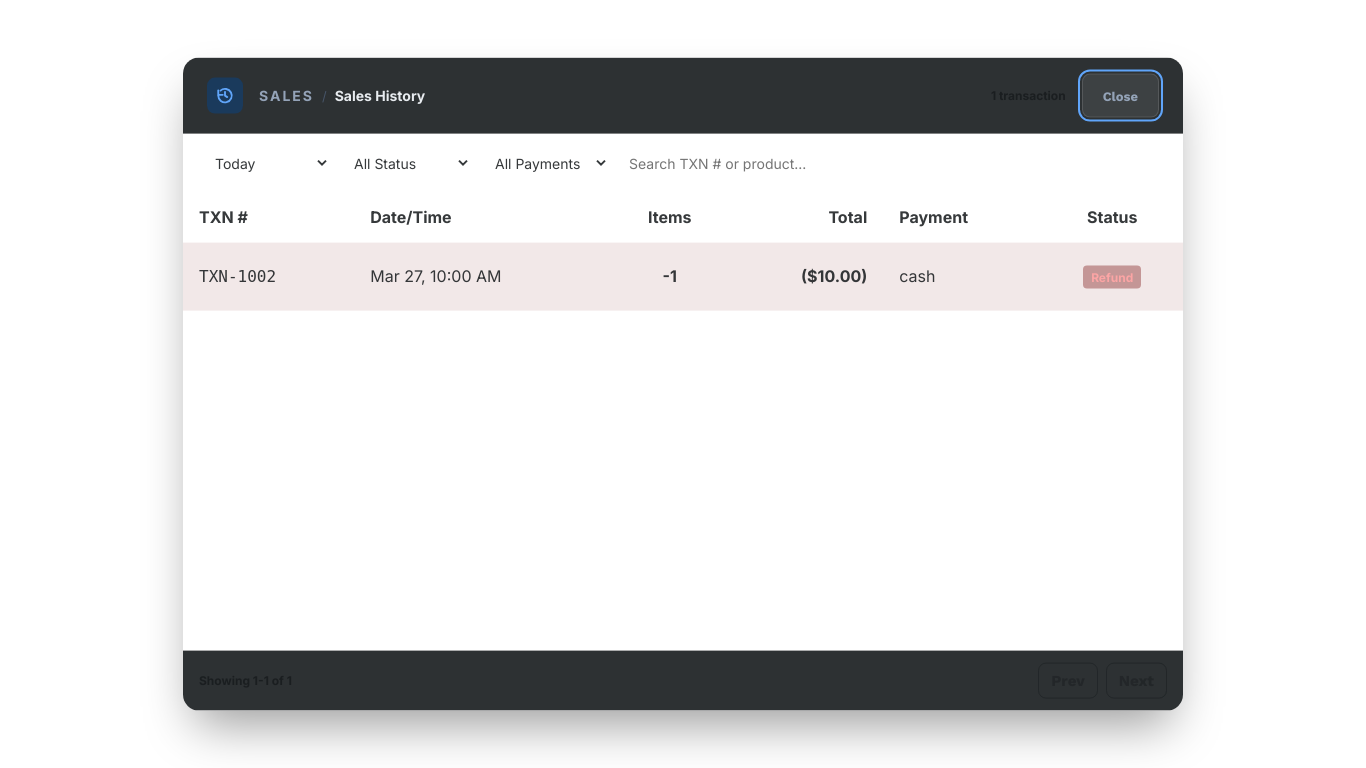
SalesHistoryModal › renders refund rows and hides recall action for refunds
Expected: the text "Refund" is shown, [1083,265,1141,289]
Click the row with test id "sales-history-row-2": (683, 276) [183,242,1183,310]
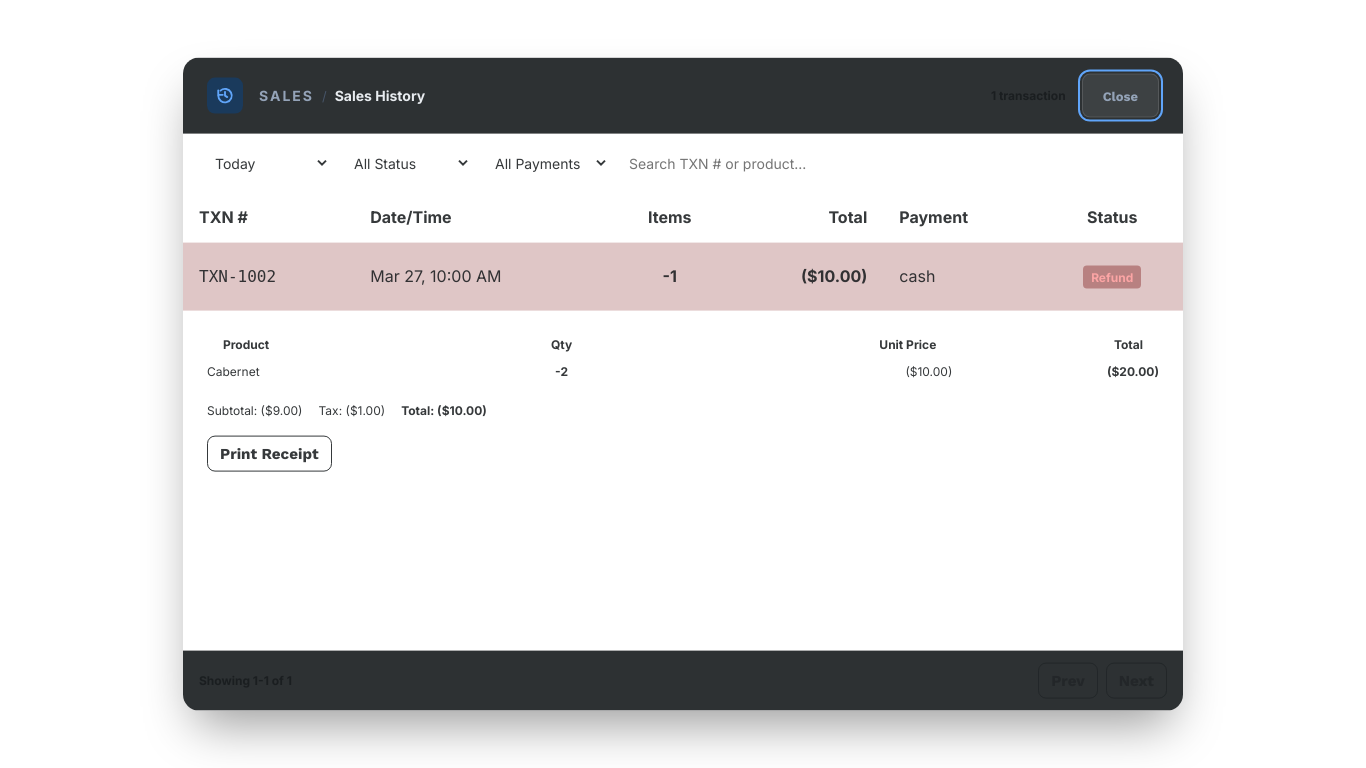
Expected: the table with test id "sales-history-detail-items" is shown, [207,322,1159,385]
